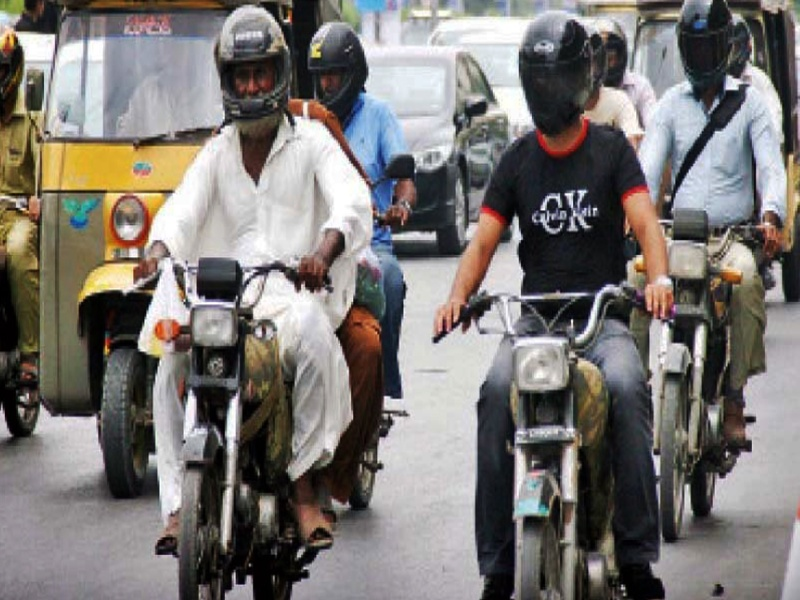helmet: (513, 9, 599, 143), (210, 1, 296, 123), (302, 19, 374, 121), (669, 1, 738, 92), (584, 17, 631, 89), (1, 22, 28, 112), (730, 9, 755, 79)
